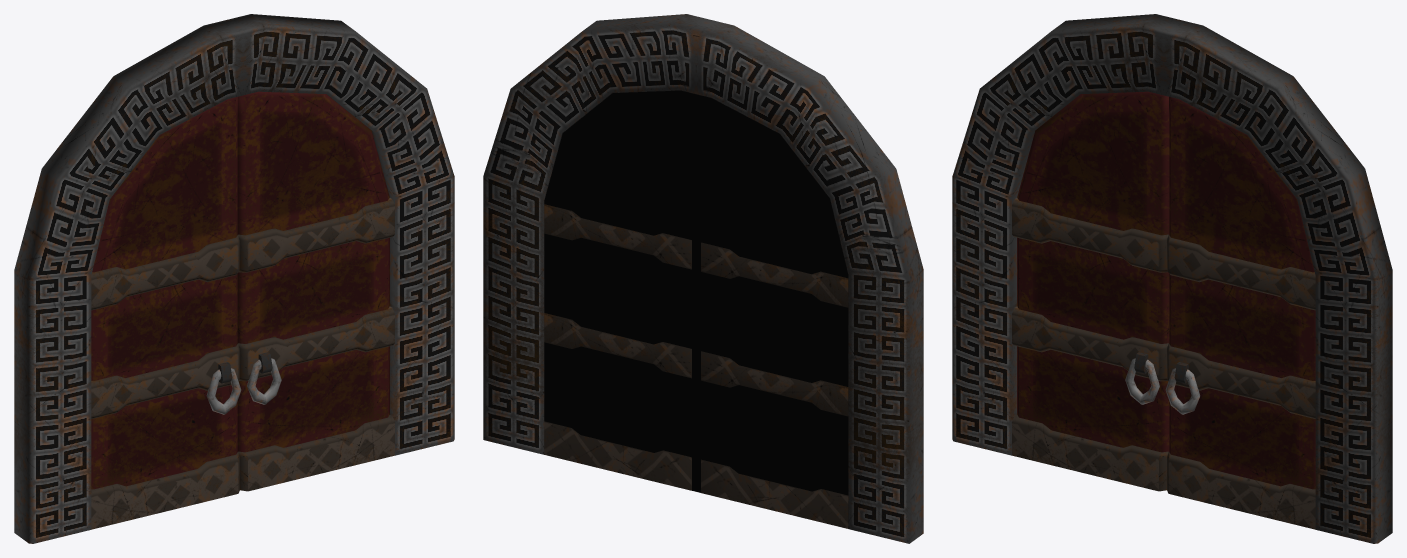
The model's file is Boss Door.fbx.
3 renders of one model, left to right at view 1: azimuth 30°, elevation 25°; view 2: azimuth 150°, elevation 25°; view 3: azimuth 330°, elevation 25°, orthographic.
Visible parts, largest first — view 1: Door_Frame, Right_Door, Left_Door; view 2: Door_Void, Door_Frame, Right_Door, Left_Door; view 3: Door_Frame, Left_Door, Right_Door.
Part boxes in pixels (left/top/right/bottom): Door_Frame: left=14, top=14, right=454, bottom=543; Right_Door: left=238, top=91, right=394, bottom=491; Left_Door: left=91, top=96, right=241, bottom=529; Door_Void: left=544, top=90, right=848, bottom=495; Door_Frame: left=483, top=14, right=923, bottom=543; Right_Door: left=544, top=204, right=691, bottom=490; Left_Door: left=701, top=242, right=848, bottom=528; Door_Frame: left=952, top=14, right=1392, bottom=543; Left_Door: left=1012, top=91, right=1168, bottom=491; Right_Door: left=1165, top=96, right=1315, bottom=529.
Size of the model in its own units: 5.61 by 5.8 by 0.4677.
1 material, 1 textured.
